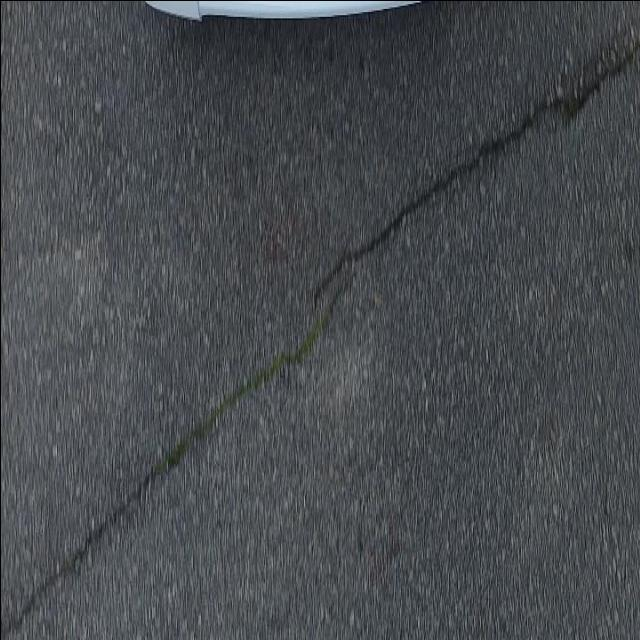cracks: (456, 19, 640, 159), (326, 158, 468, 248), (0, 574, 183, 640), (151, 342, 267, 429), (101, 435, 208, 528), (270, 254, 368, 342), (56, 518, 111, 568)
